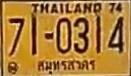0: (56, 17, 71, 53)
1: (30, 15, 36, 54), (95, 16, 100, 52)
3: (73, 17, 88, 52)
4: (107, 16, 123, 52)
7: (8, 17, 24, 55)
SKN: (36, 57, 97, 75)
